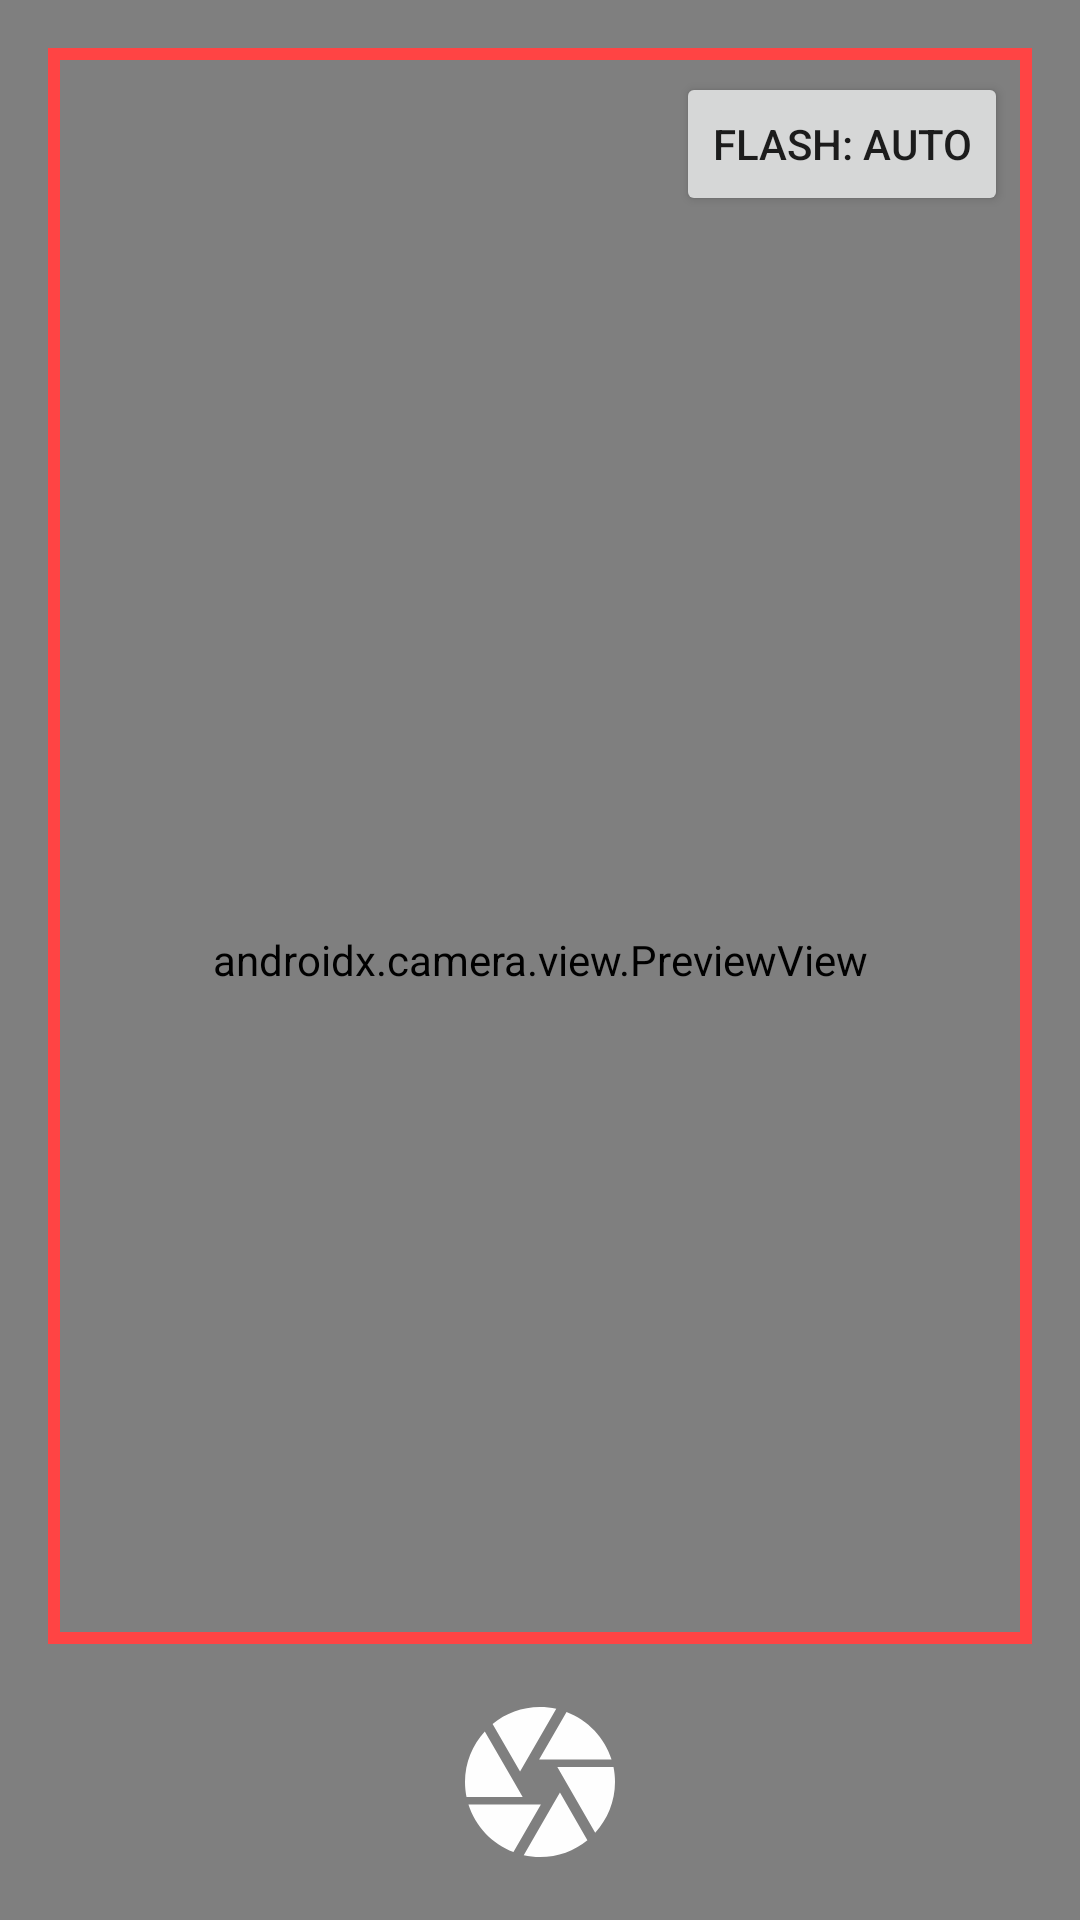

Screen size 1080 x 1920. Icon name, then its box in pixels as (x1, y1, x2, y2):
capture: (465, 1707, 615, 1857)
